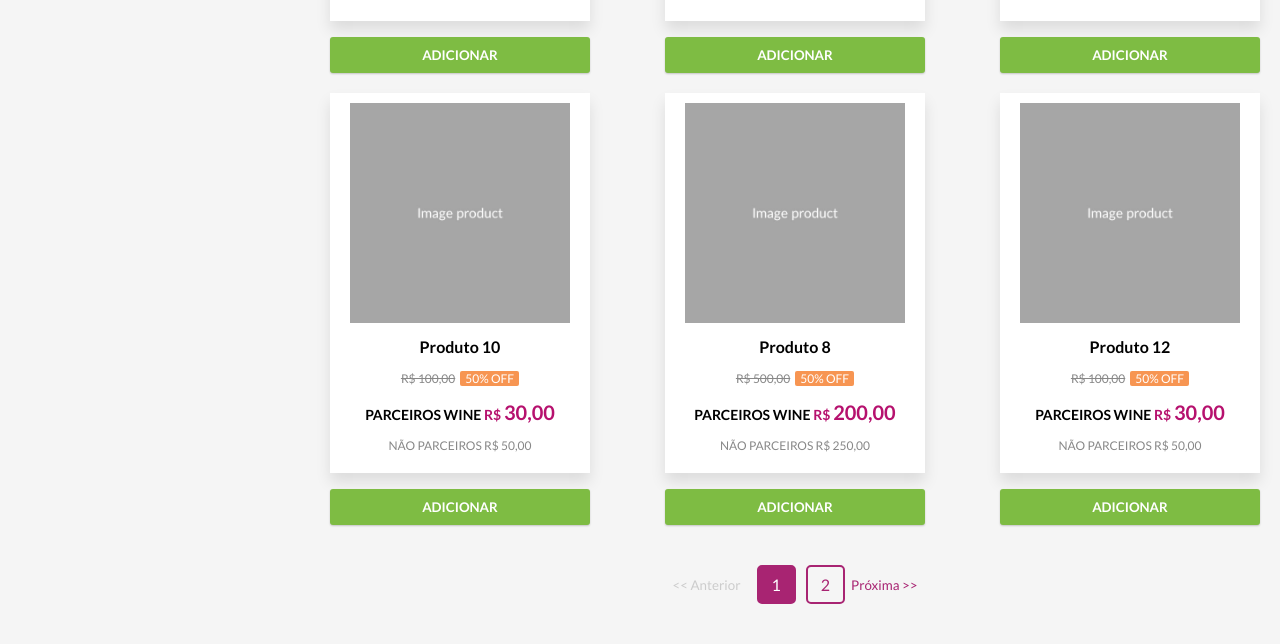
Scenario: Browsing the store › Navigating between pages › Scene 4: On the last page, the next page button is disabled
The width and height of the screenshot is (1280, 644).
(page scrolled)
Click the button with test id "home_page_navigate_btn-1" at (826, 585), box [806,565,845,604]
(page scrolled)
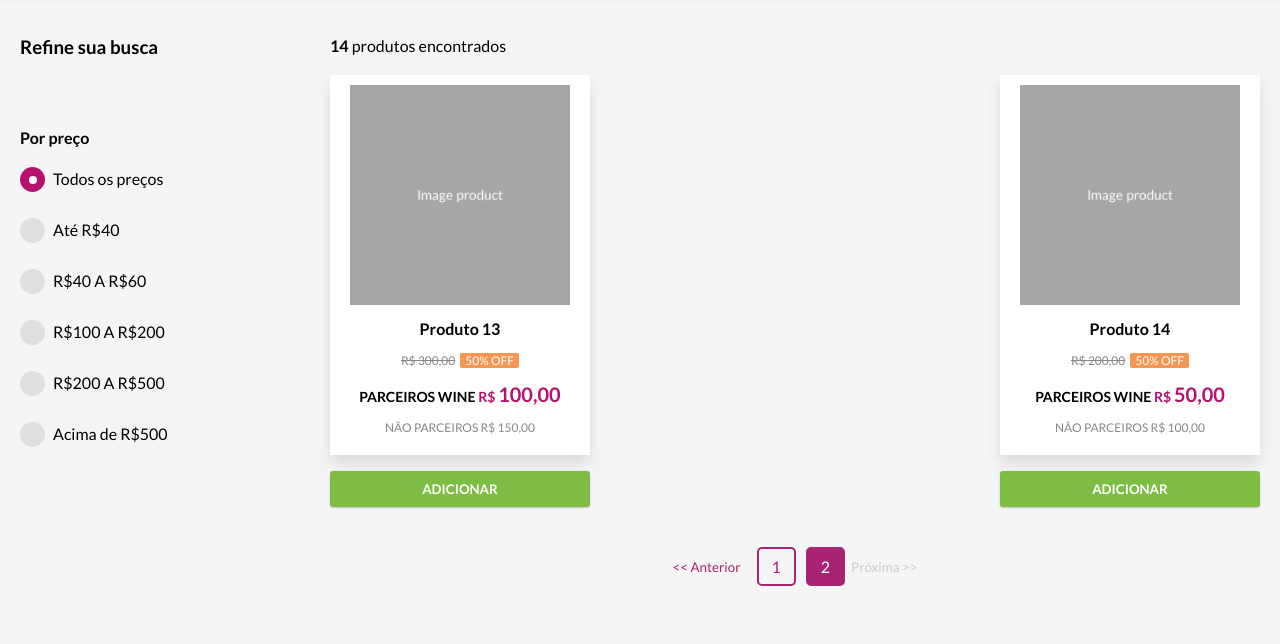
Now the button with test id "home_page_navigate_btn-next" is disabled, box [845,547,923,586]
